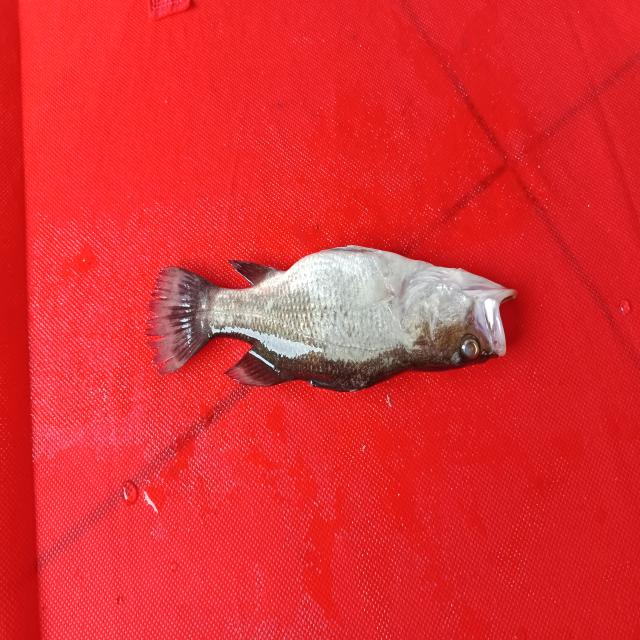ikan: (140, 218, 520, 420)
